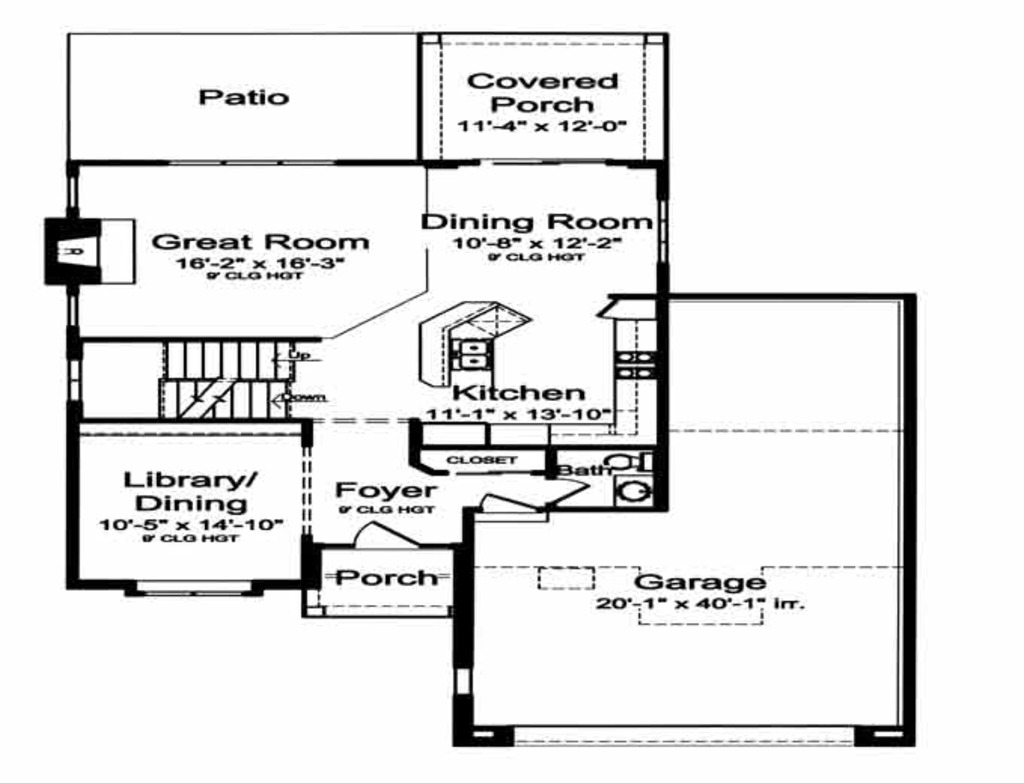door: (352, 520, 424, 554), (468, 490, 543, 519)
kitchen_bar: (417, 301, 534, 391)
large_sink: (602, 446, 651, 474)
small_sink: (612, 471, 658, 512)
stairs: (73, 340, 320, 425)
windows: (130, 579, 263, 600), (648, 197, 679, 271)
